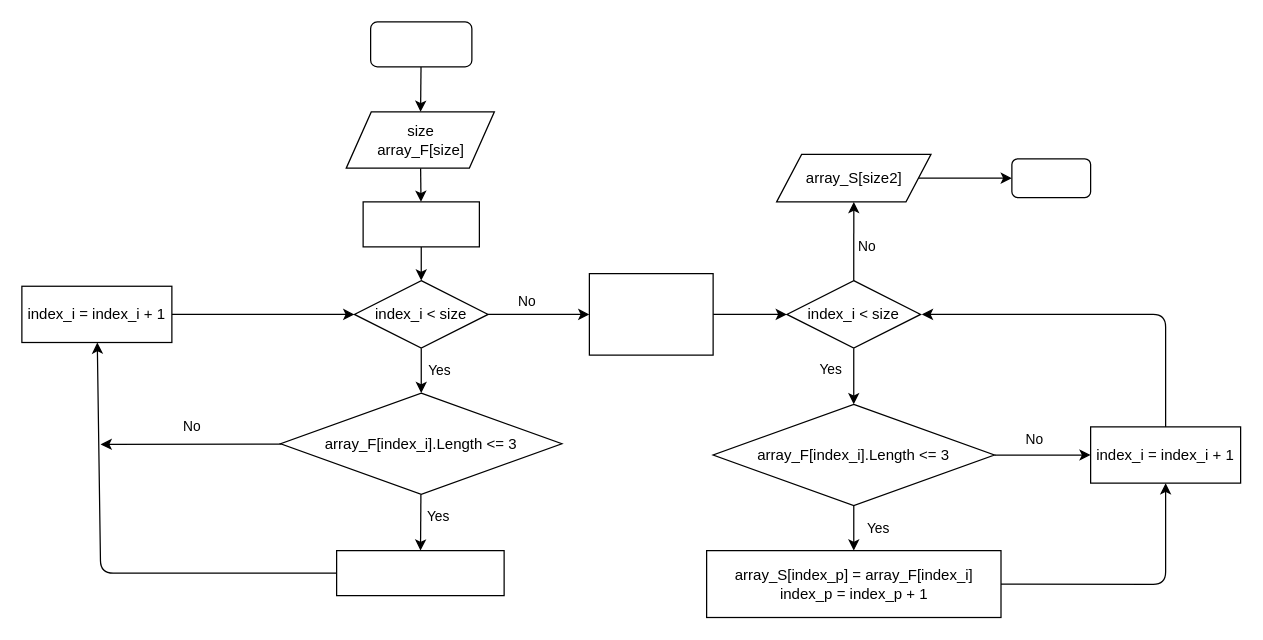
Some shapes in this 1263 by 640 pixel diagram are drawn without their labels. Here are the shapes that lost their labels. From the top down, the centre of each, then its label:
At point (420, 44): "Start".
At point (1051, 178): "Finish".
At point (420, 224): "index_i=0 index_p=0".
At point (650, 313): "size2 = index_p array_S[size2] index_i = 0 index_p = 0".
At point (419, 572): "index_p = index_p + 1".
